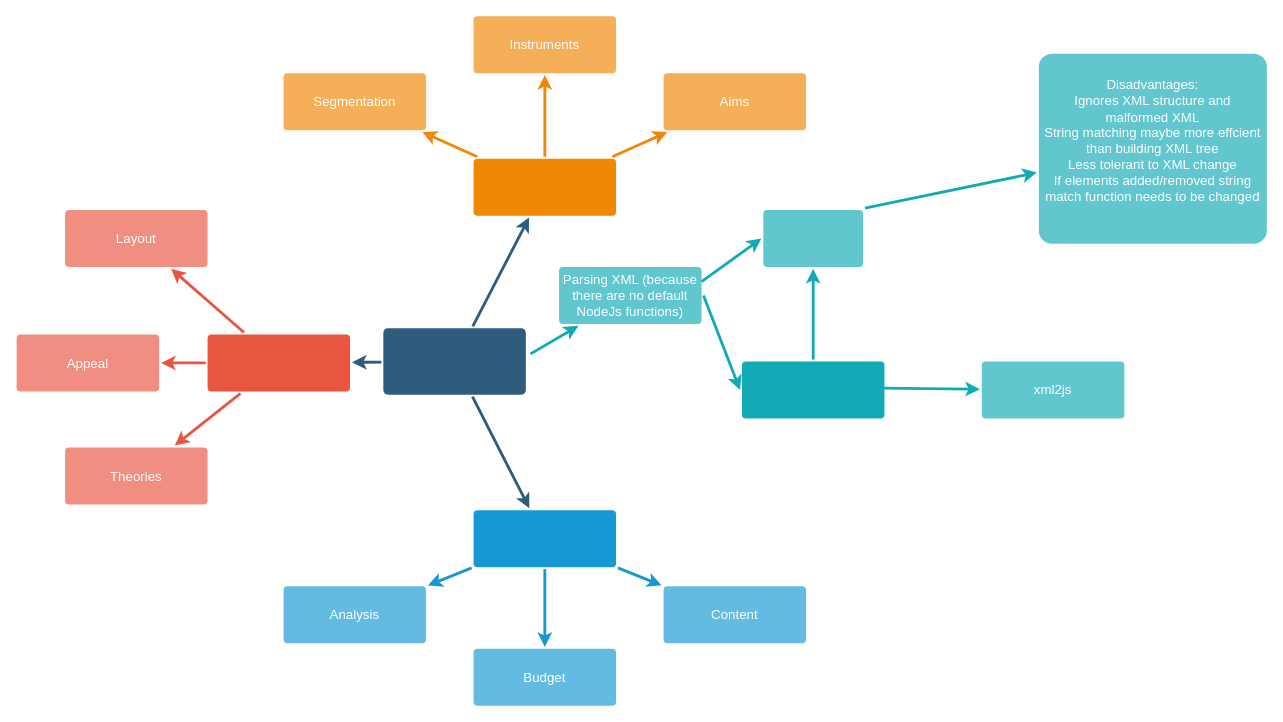
This 1283x722 diagram has some shape labels left out. Here are the shapes that lost their labels. From the top down, the centre of each, then its label:
At point (544, 186): "Marketing".
At point (813, 237): "Manual Parsing".
At point (278, 362): "Embassy".
At point (454, 361): "Extendiong NodeJs".
At point (812, 389): "Third Party labs".
At point (544, 538): "Organization".
